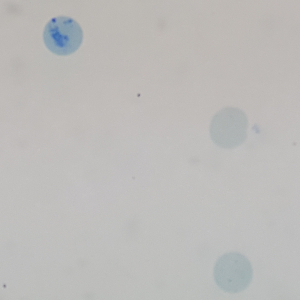aggregate reticulocyte: (41, 15, 85, 58)
erythrocyte: (208, 105, 251, 151)
punctate reticulocyte: (212, 251, 254, 295)
